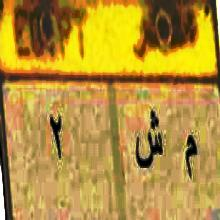2: (48, 102, 64, 170)
meem: (178, 119, 201, 191)
sheen: (134, 105, 165, 183)
